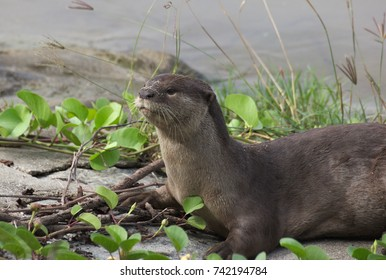otter: (130, 66, 382, 256)
